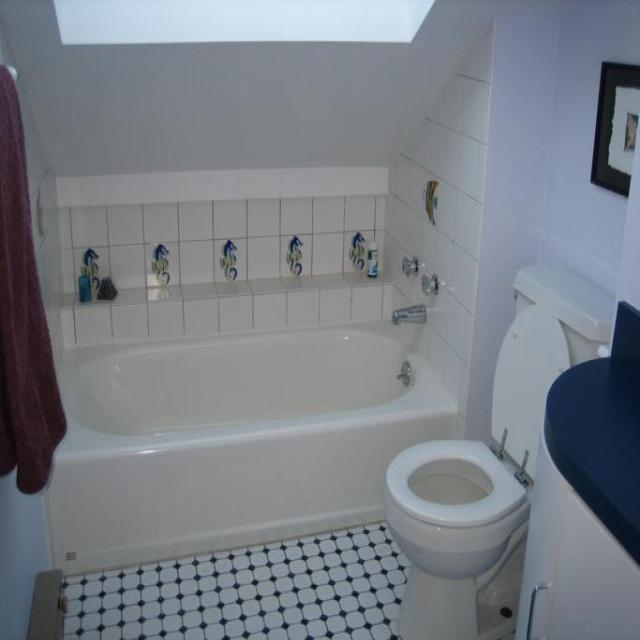faucet: (391, 304, 426, 325)
windows: (589, 59, 639, 196)
